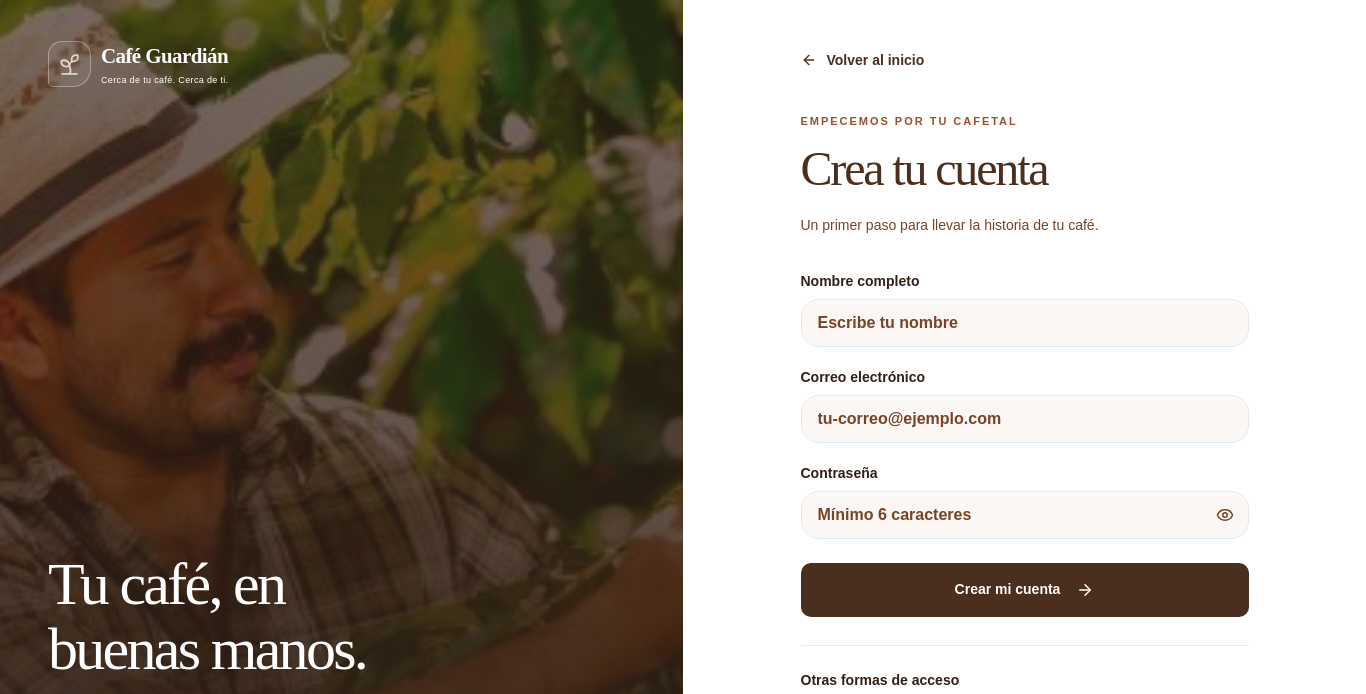
Test: acceso desde la portada › mantiene la confirmación por correo sin fingir una sesión
This screenshot has width=1366, height=694.
Type "Ana" into the field labelled "Nombre completo" at (1024, 322), box [800,298,1248,346]
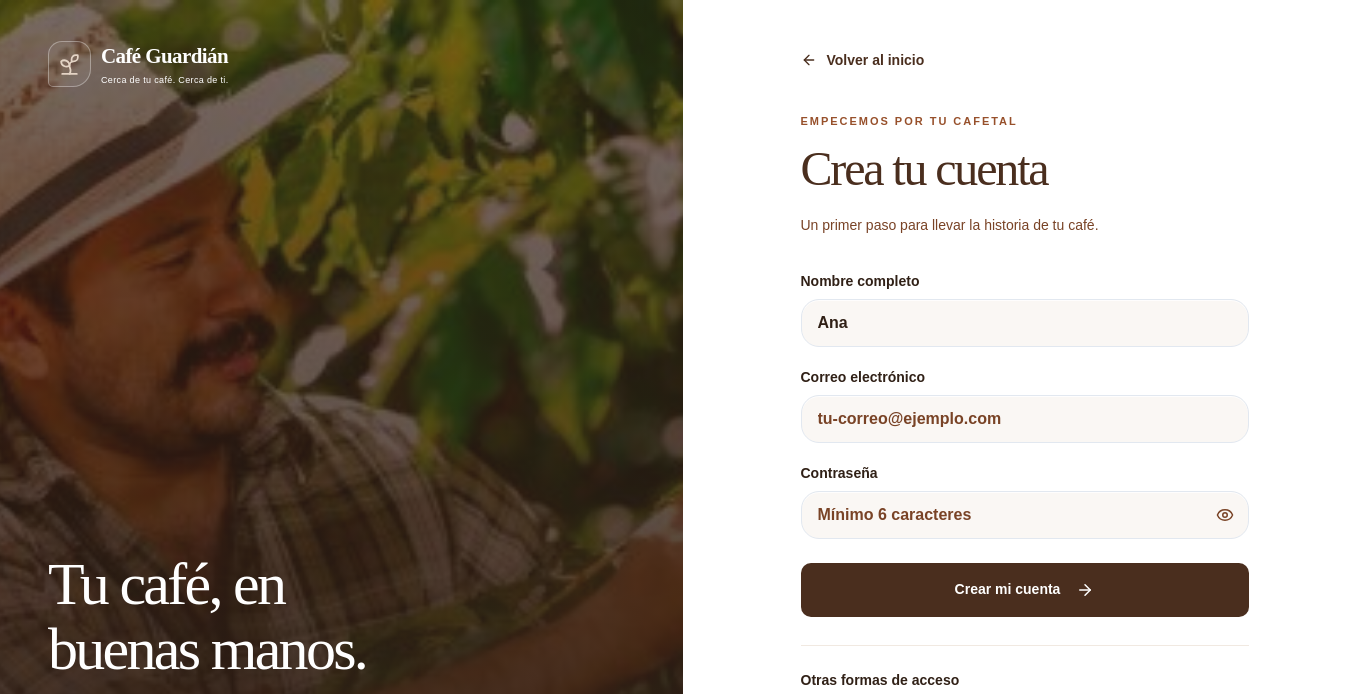
Type "ana@example.com" into the field labelled "Correo electrónico" at (1024, 418), box [800,394,1248,442]
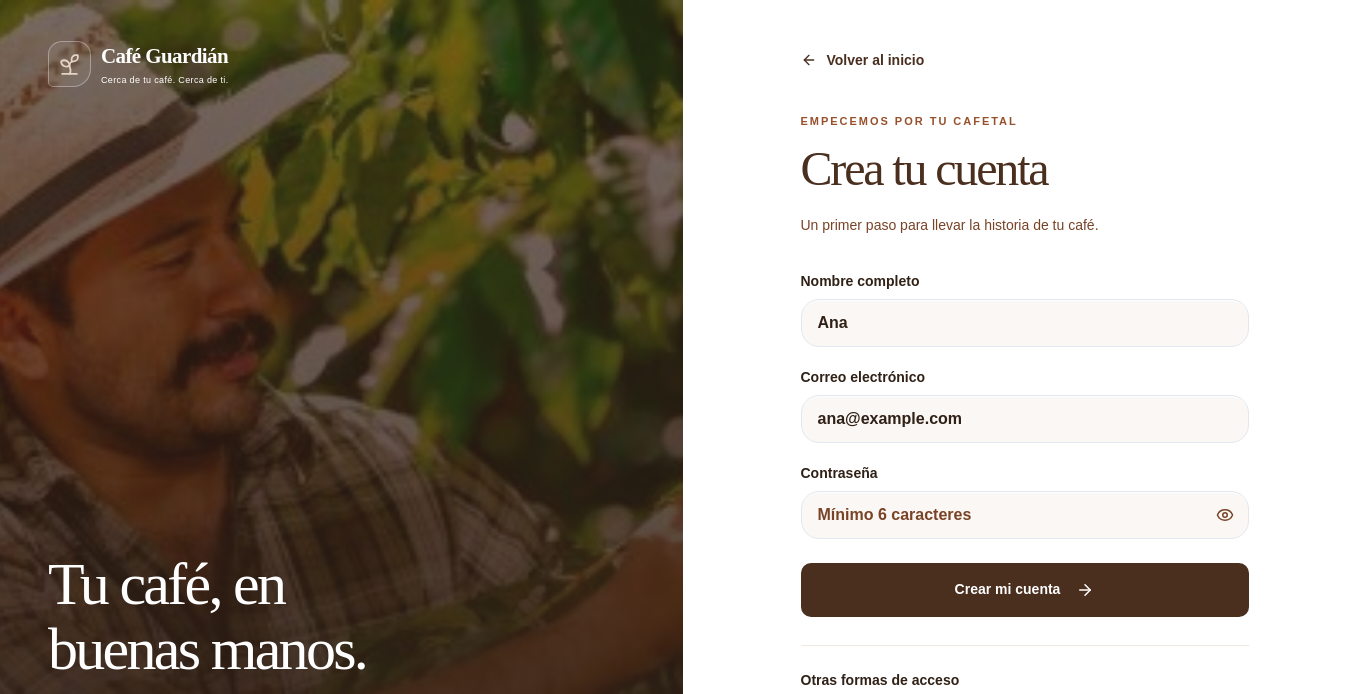
Type "clave123" into the password field labelled "Contraseña" at (1024, 514), box [800,490,1248,538]
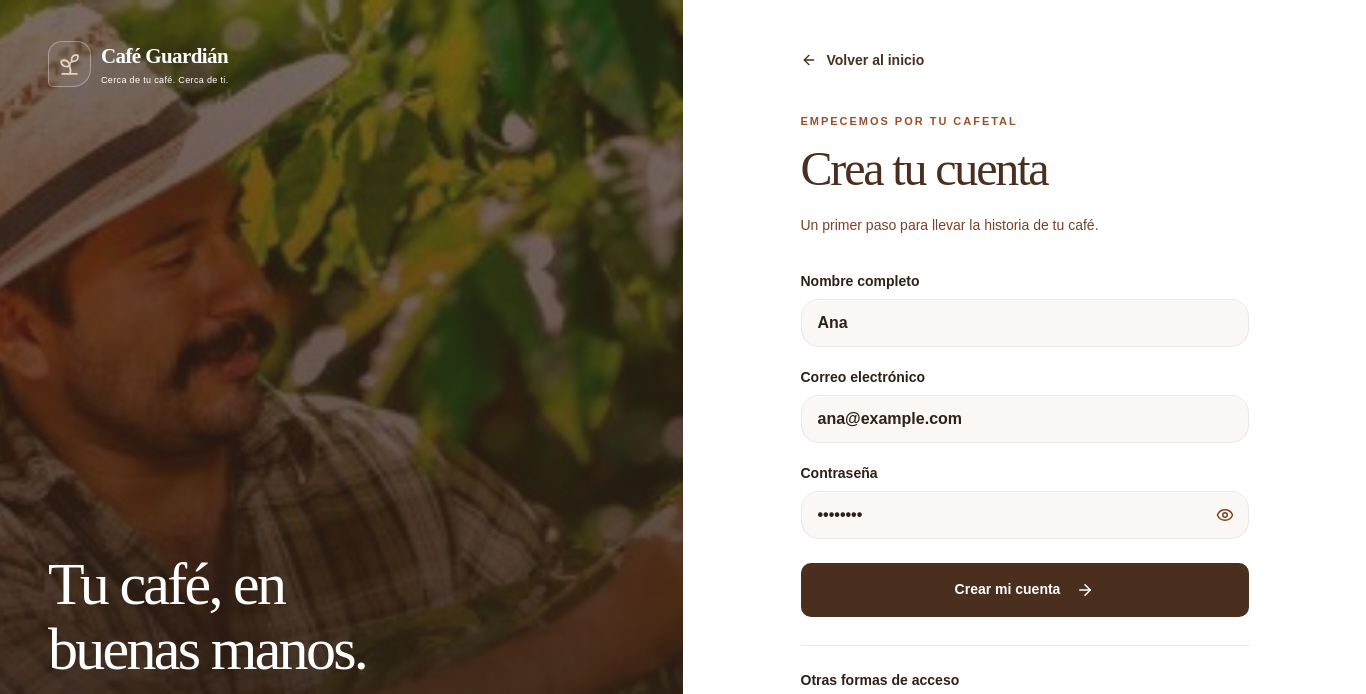
Click the button "Crear mi cuenta" at (1024, 590), box [800,562,1248,616]
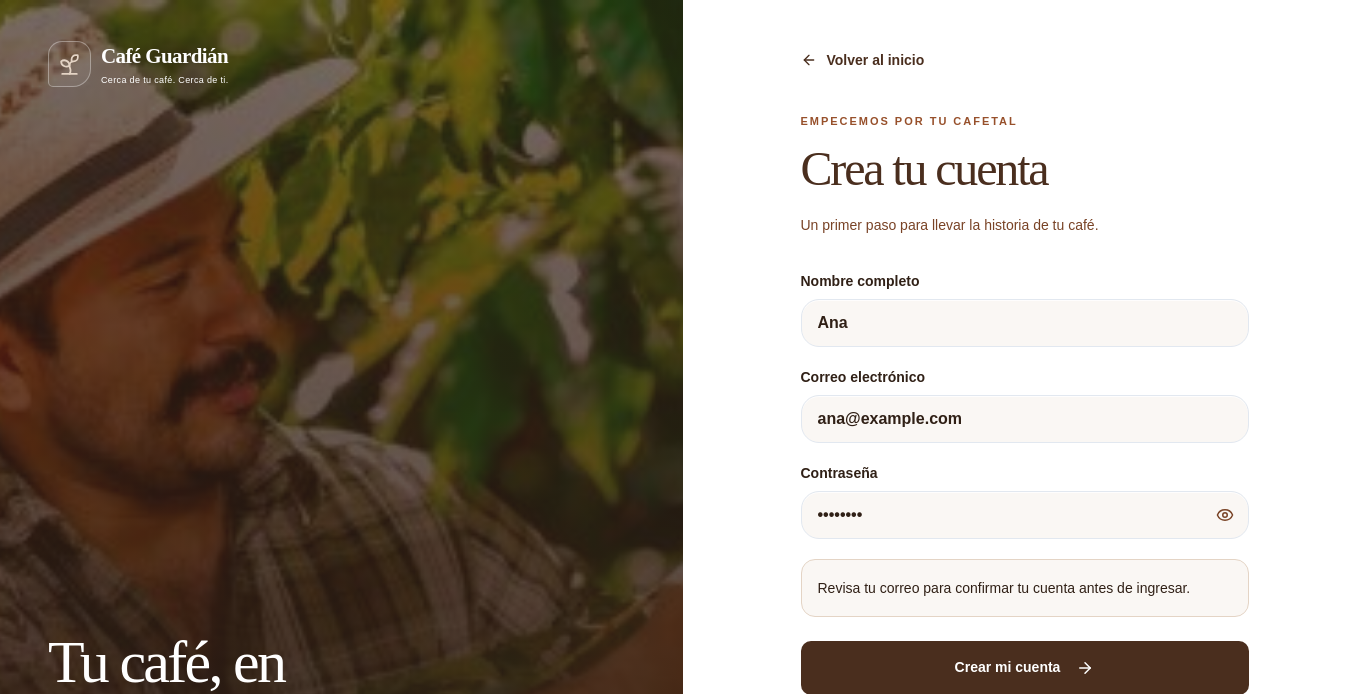
Expected: the message shows "Revisa tu correo", [818,580,1190,596]
